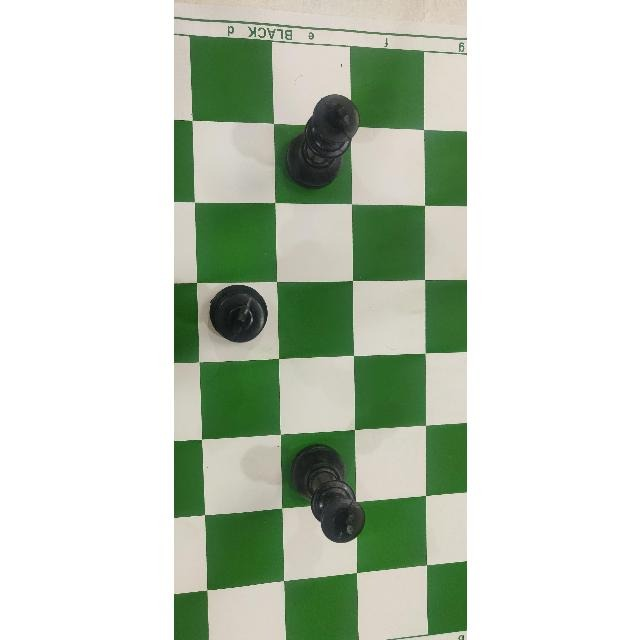black-king: (279, 90, 361, 198), (294, 436, 364, 552), (206, 282, 269, 350)
